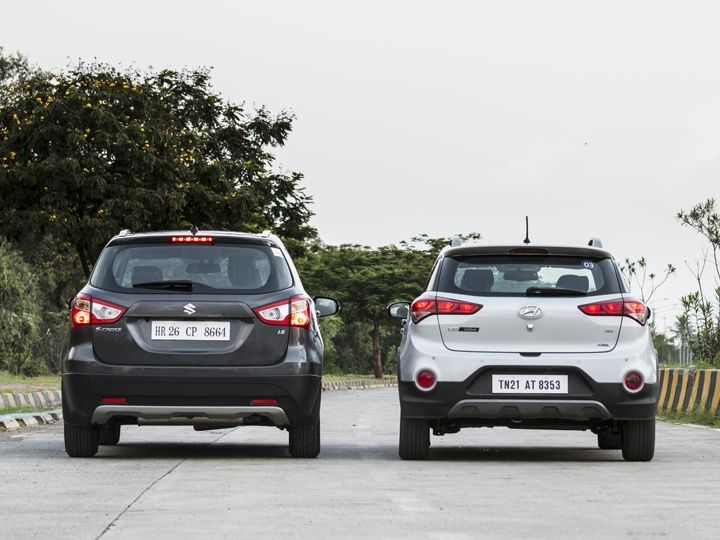car: (54, 218, 343, 480), (381, 232, 671, 479)
